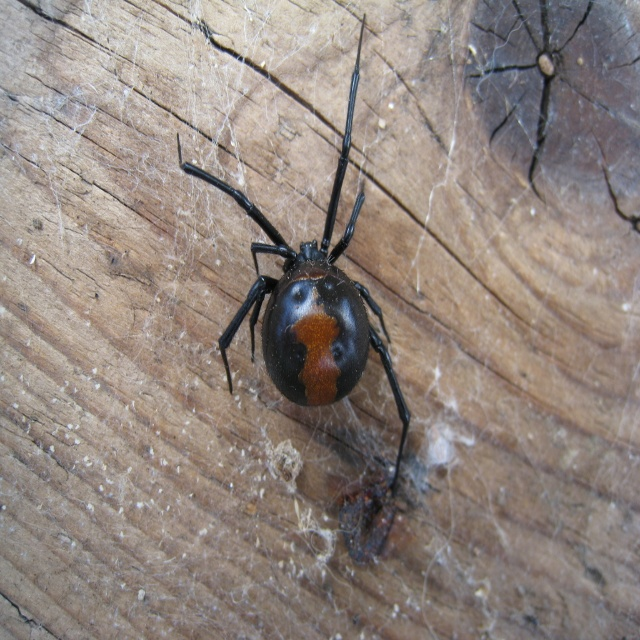Spider: (177, 13, 411, 497)
